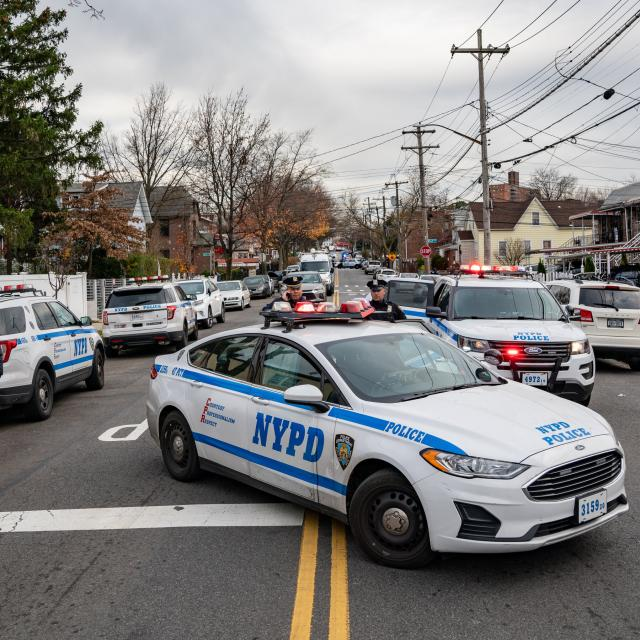cop: (144, 315, 640, 568), (428, 270, 599, 400), (0, 279, 103, 420), (105, 276, 200, 354)
